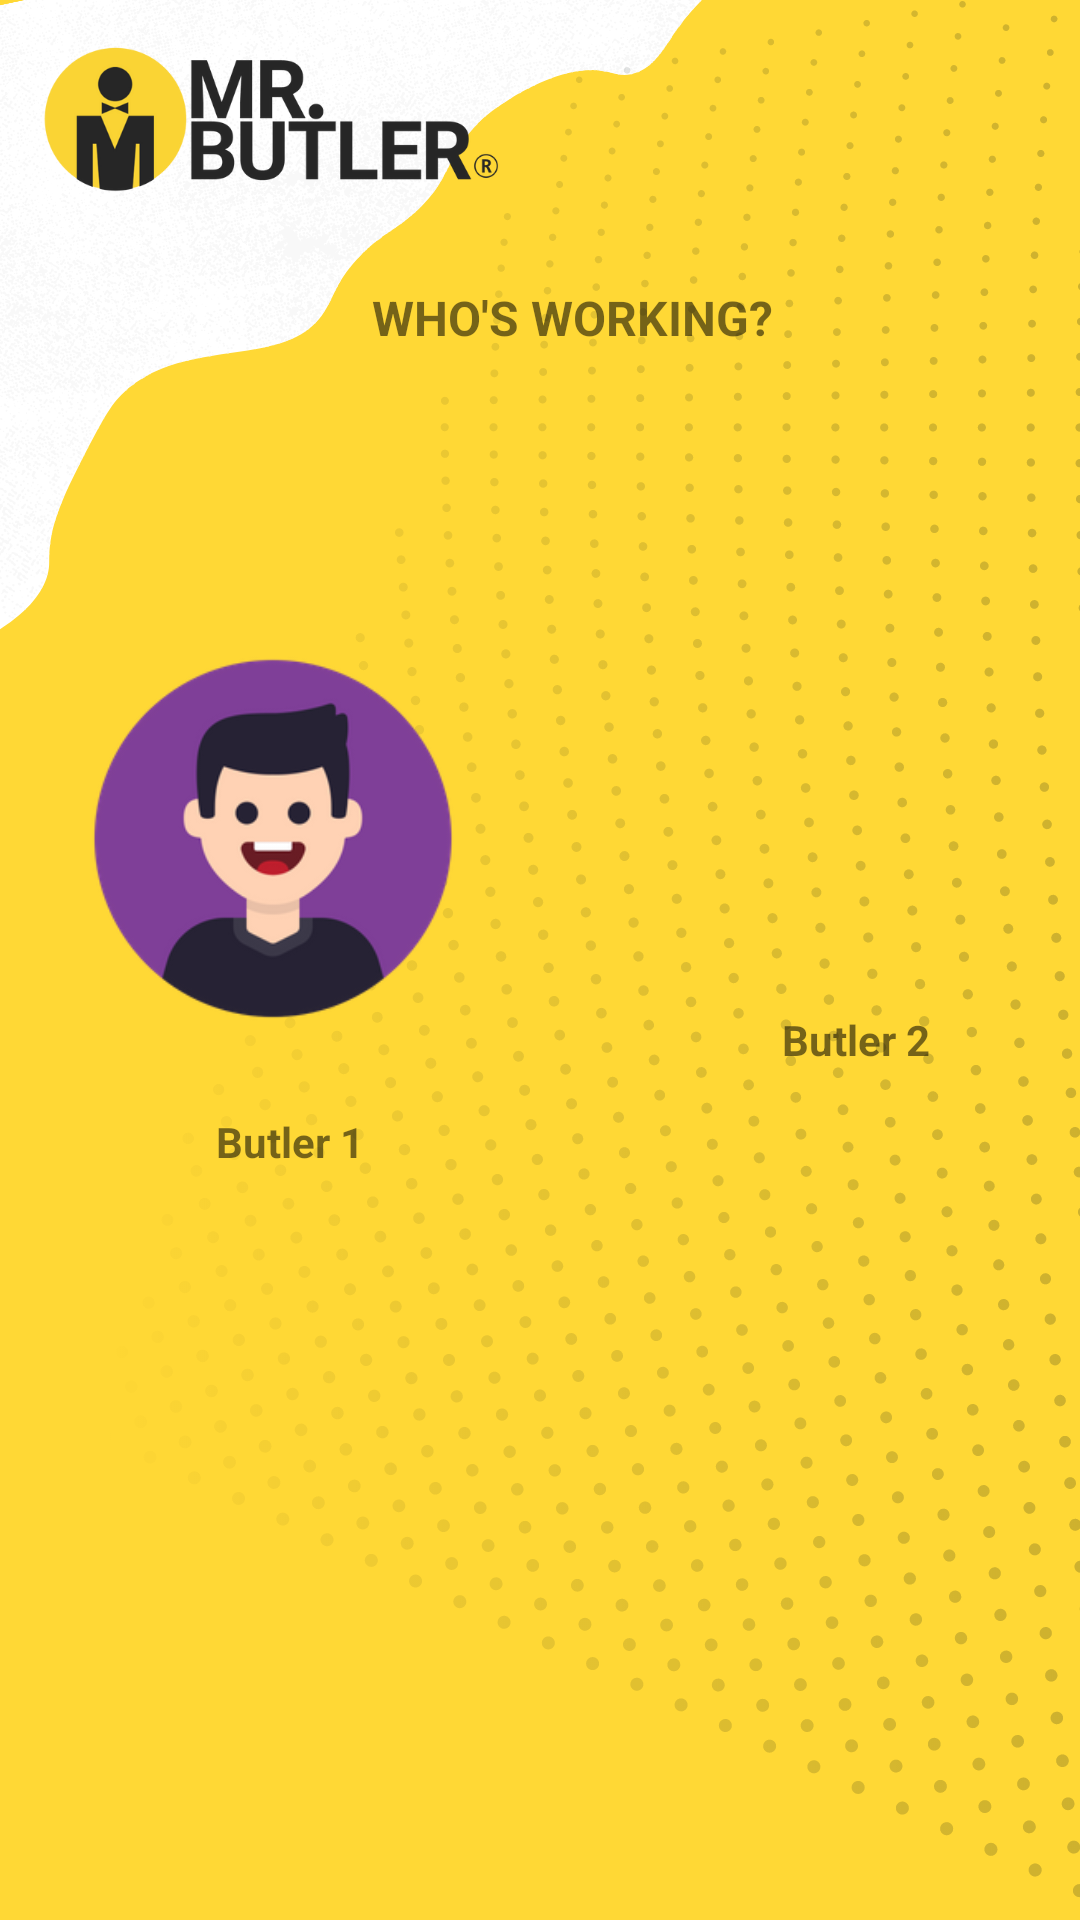

Screen size 1080px x 1920px. Icon name, then its center in pixels as (x=x, y=y):
man: (x=273, y=838)
